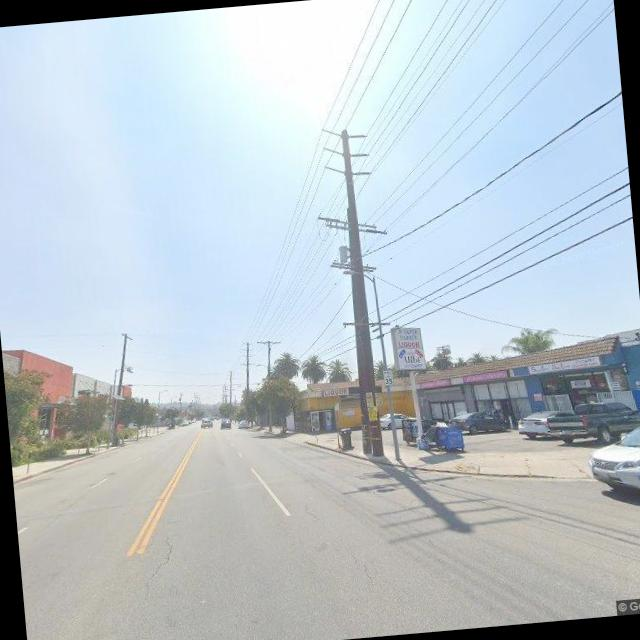crack: (132, 530, 178, 599), (346, 546, 375, 588)
